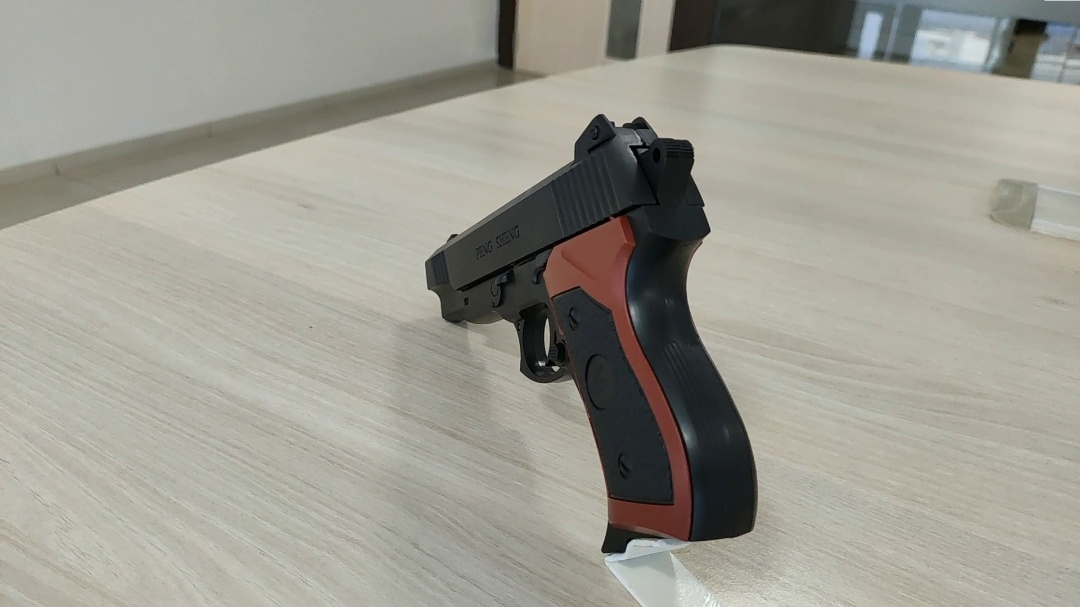gun: (417, 109, 773, 557)
